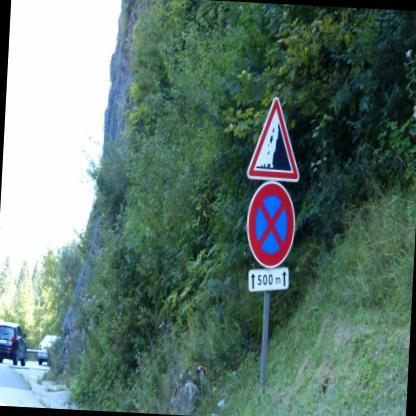road_sign: (247, 97, 298, 180), (247, 181, 294, 267), (247, 268, 292, 289)
